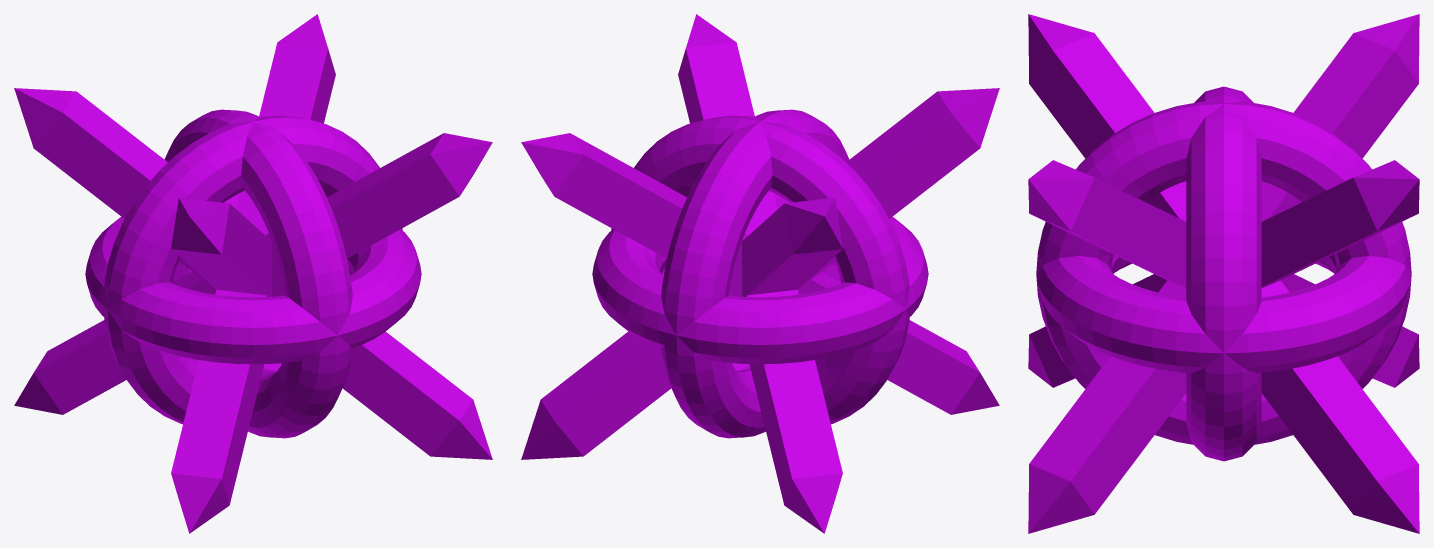
Rendered from CrossNought.fbx.
3 renders of one model, left to right at view 1: azimuth 30°, elevation 25°; view 2: azimuth 150°, elevation 25°; view 3: azimuth 270°, elevation 25°, orthographic. The views are drawn at different scales.
Parts seen in each view (by area): view 1: Cube.008; view 2: Cube.008; view 3: Cube.008.
Boxes of the visible parts, x1,y1,x2,y2 form: Cube.008: [14, 14, 492, 533]; Cube.008: [521, 14, 999, 533]; Cube.008: [1028, 14, 1419, 533].
Bounding box in the file's own units: 200 × 200 × 200.
